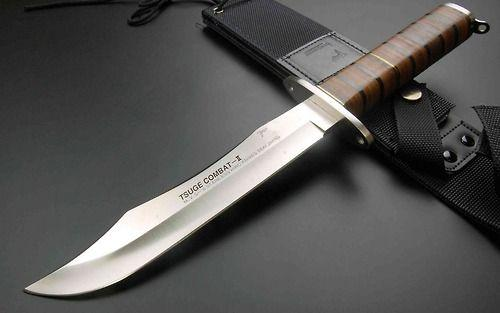knife: (7, 3, 480, 301)
